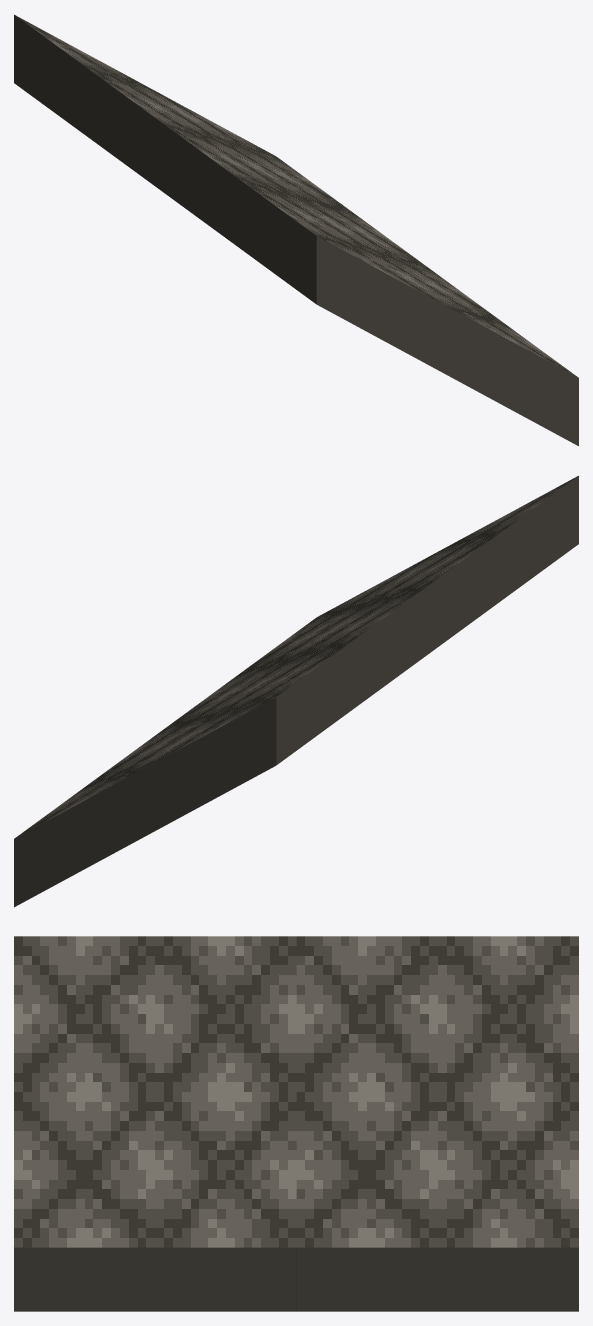
The model's file is Ramp_Steep_1.glb.
3 renders of one model, top to bottom at view 1: azimuth 30°, elevation 25°; view 2: azimuth 150°, elevation 25°; view 3: azimuth 270°, elevation 25°, orthographic. The views are drawn at different scales.
Parts seen in each view (by area): view 1: Ramp_Steep_1; view 2: Ramp_Steep_1; view 3: Ramp_Steep_1.
Part boxes in pixels (x1,y1,x2,y2): Ramp_Steep_1: (14,14,578,446); Ramp_Steep_1: (14,475,578,907); Ramp_Steep_1: (14,936,578,1311).
Size of the model in its own units: 2 by 2 by 4.
Materials: 1 (1 with a texture image).
